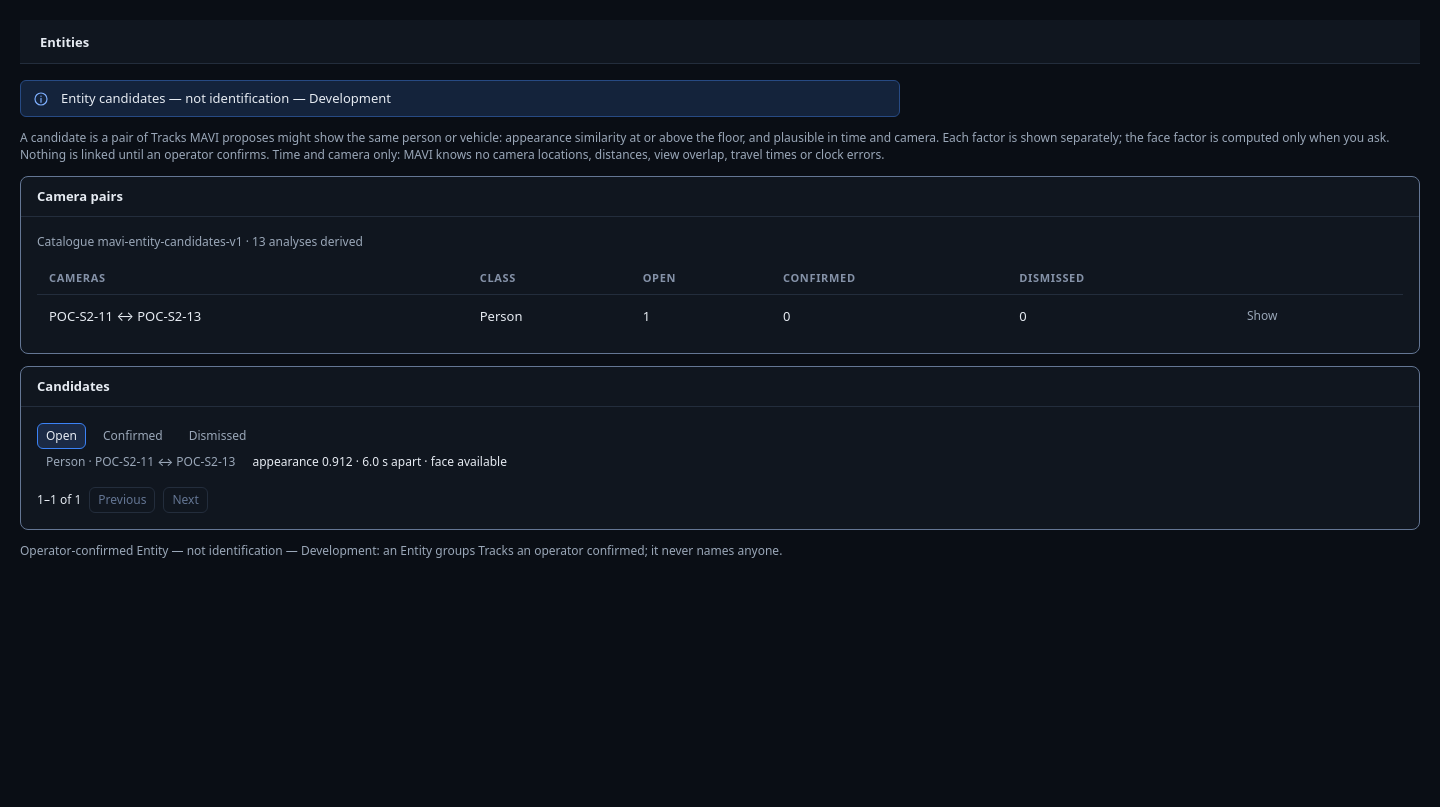
Test: PoC S7 Entities page › shows both Tracks side by side with each factor separately and the face factor only on request
Click the button "Person · POC-S2-11 ↔ POC-S2-13" at [141, 462], box 37,449 -> 244,475
(page scrolled)
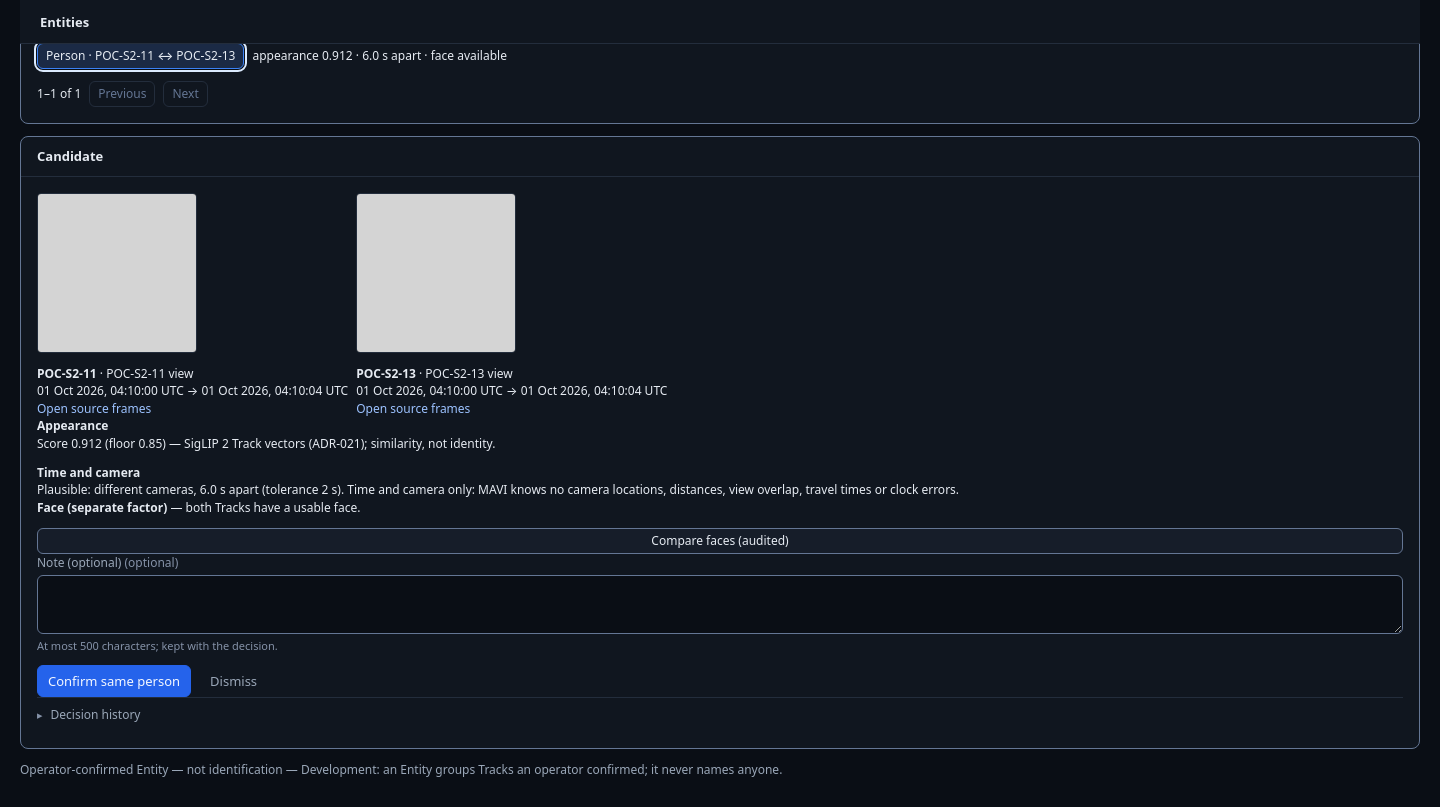
Result: the element named "First Track" is shown at 37,193 -> 348,417
Result: the element named "Second Track" is shown at 356,193 -> 667,417
Result: the text "Score 0.912 (floor 0.85)" is shown at 37,434 -> 495,452
Click the button "Compare faces (audited)" at [720, 541], box 37,528 -> 1403,554
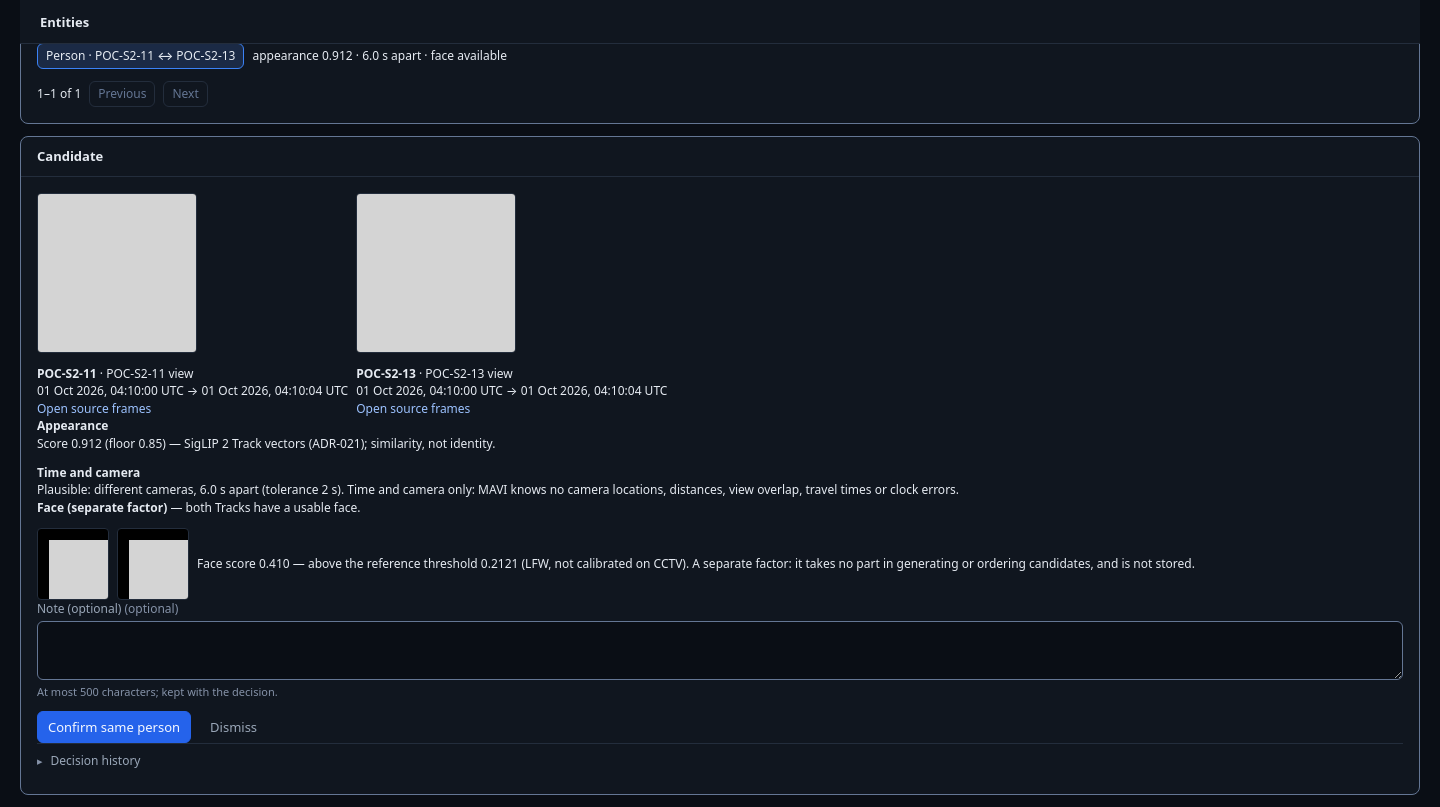
Result: the text "Face score 0.410 — above the reference threshold 0.2121 (LFW, not calibrated on CCTV)" is shown at 197,555 -> 1195,573
